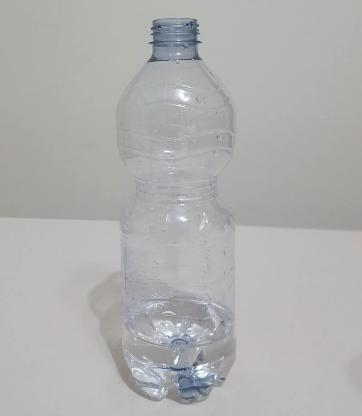Plastic Bottle: (115, 10, 250, 396)
